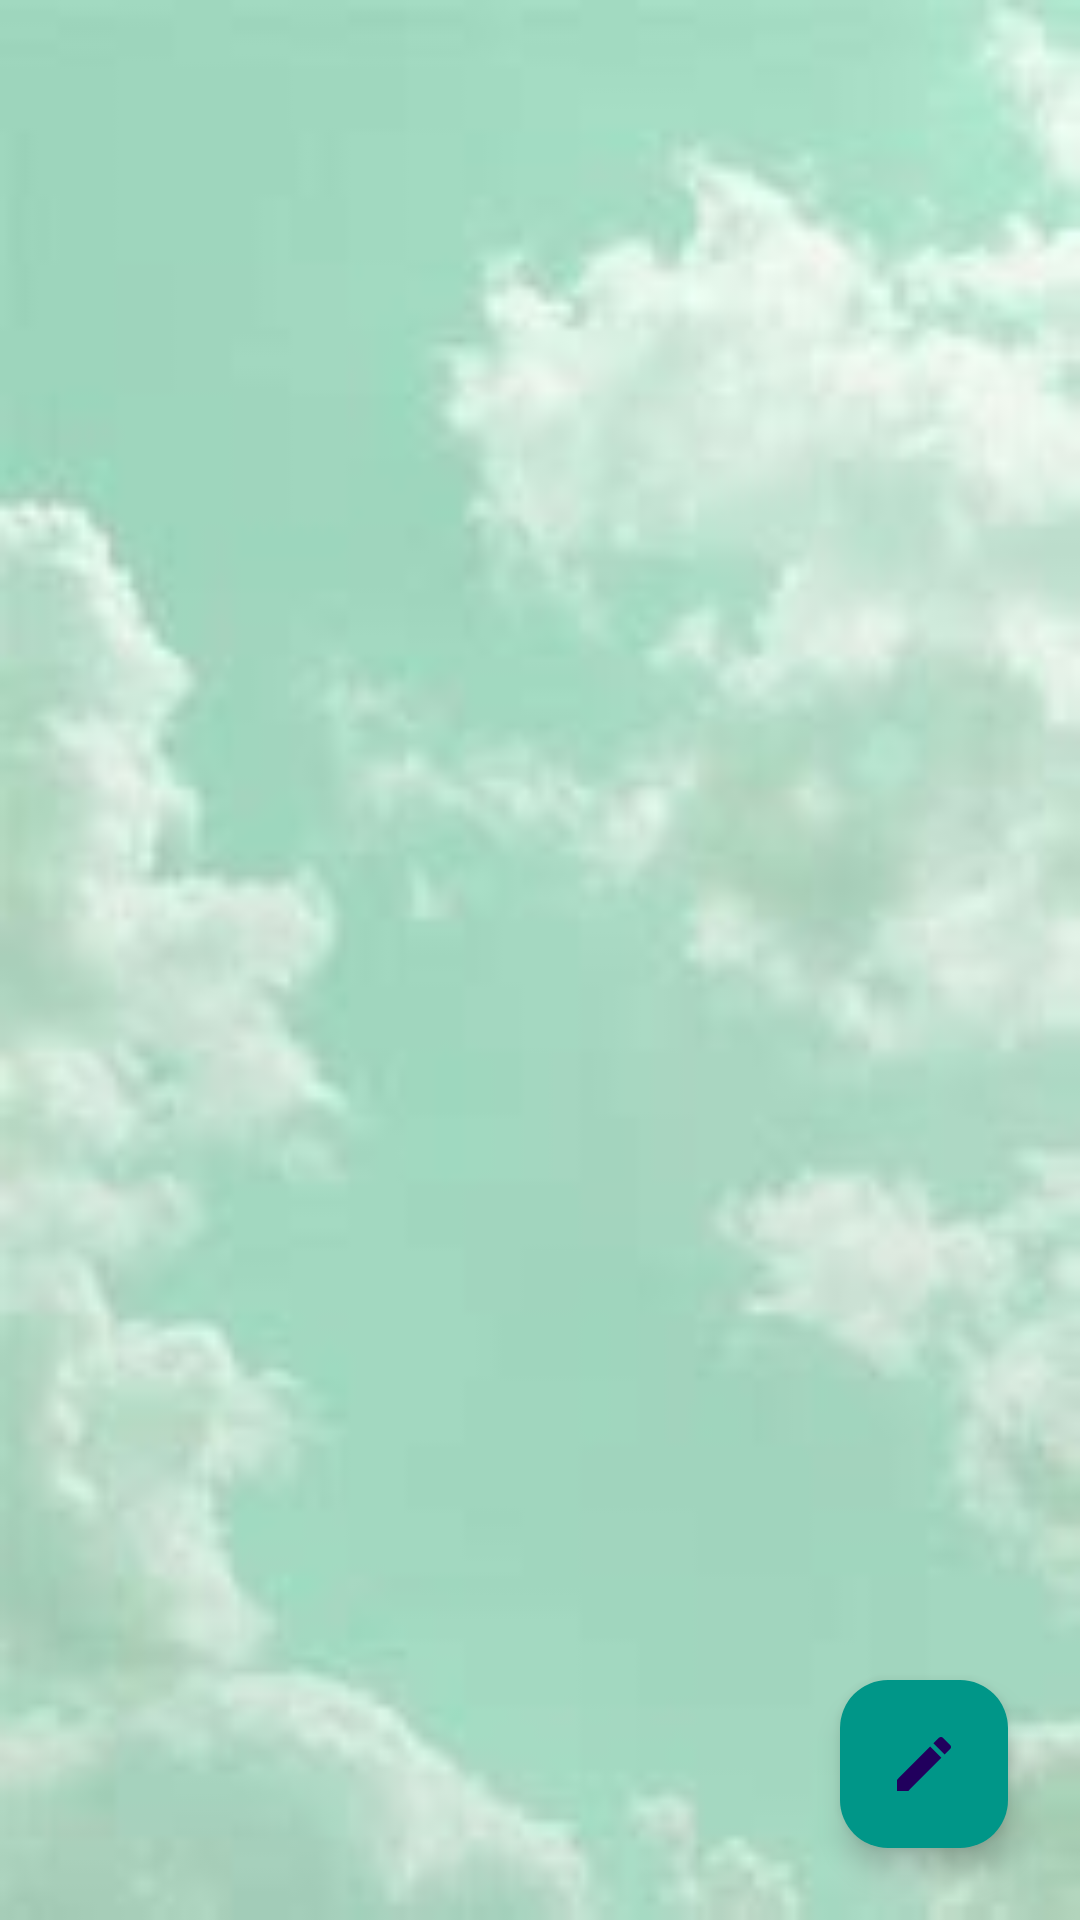

Icon click points for this 1080w x 1920h phone screenshot, format (x,y):
edit: (924,1764)
